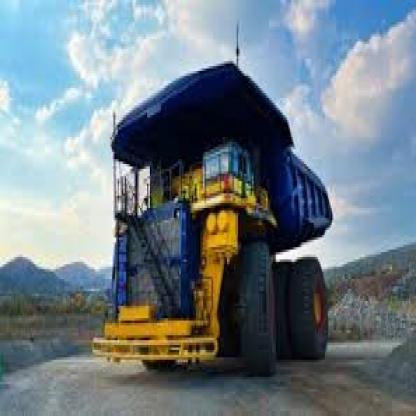dump_truck: (84, 49, 338, 379)
